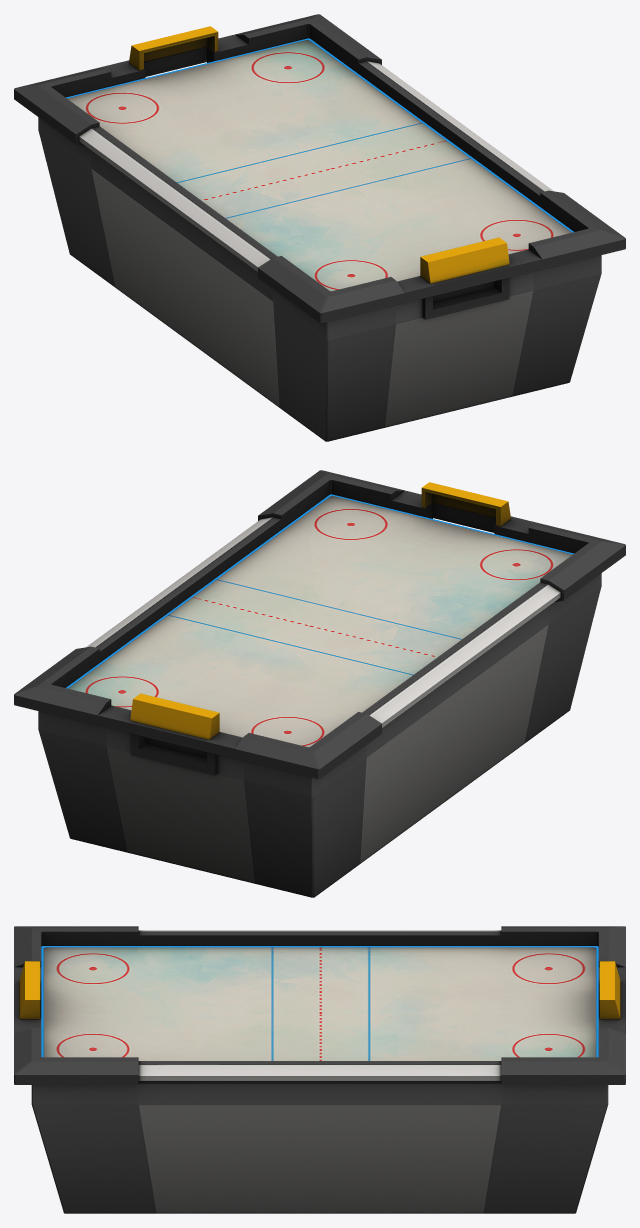
Rendered from AirHockeyTable_01.fbx.
The picture shows the model from 3 angles, top to bottom: view 1: azimuth 30°, elevation 25°; view 2: azimuth 150°, elevation 25°; view 3: azimuth 270°, elevation 25°; orthographic projection.
Parts seen in each view (by area): view 1: AirHockey_Table_01; view 2: AirHockey_Table_01; view 3: AirHockey_Table_01.
Boxes of the visible parts, x1,y1,x2,y2 form: AirHockey_Table_01: [14, 14, 625, 441]; AirHockey_Table_01: [14, 470, 625, 897]; AirHockey_Table_01: [14, 926, 625, 1213].
Bounding box in the file's own units: 217 × 118 × 378.
